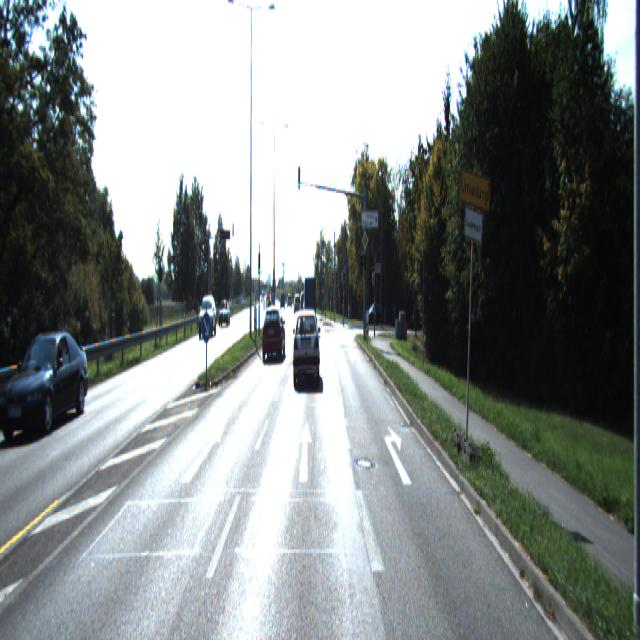Car: (2, 331, 91, 438), (293, 313, 321, 386), (262, 306, 286, 362), (198, 297, 217, 337), (219, 300, 230, 327)
DontCare: (362, 292, 389, 332)
Van: (303, 275, 317, 333)
